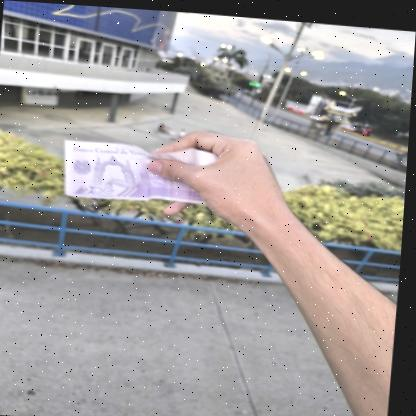one_hundred-back-vef: (62, 135, 223, 206)
